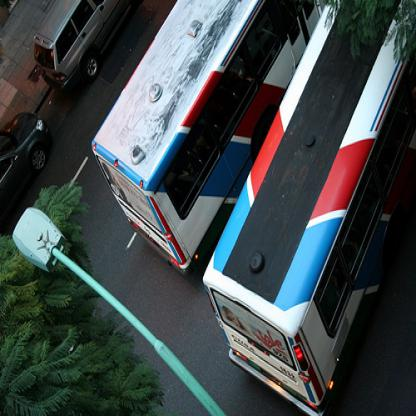bus: (203, 0, 415, 415), (90, 0, 329, 278)
car: (31, 0, 139, 94), (0, 110, 52, 225)
